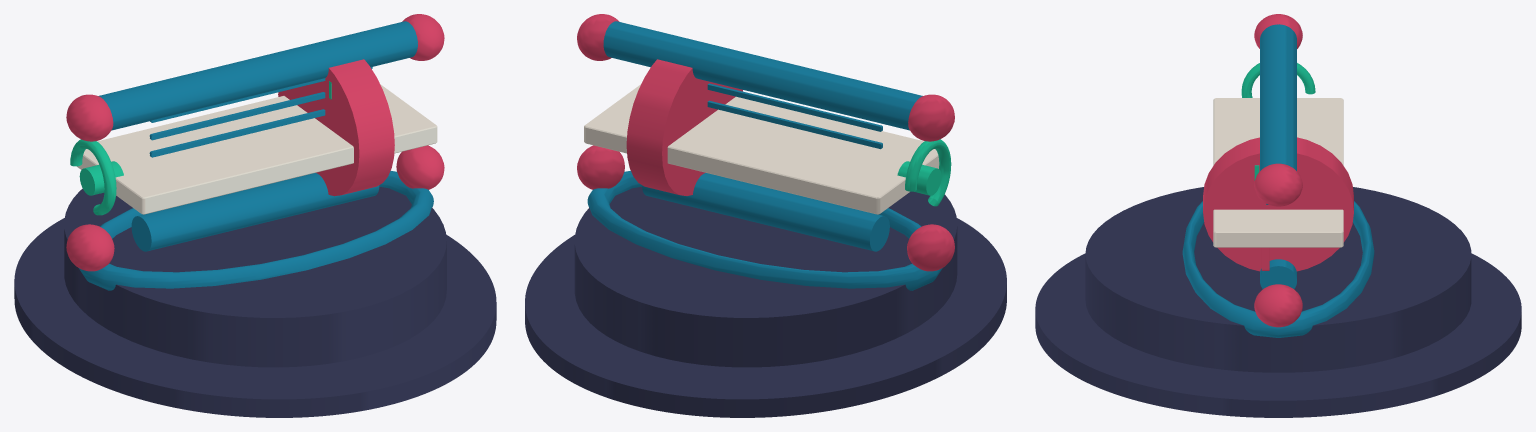
File: 0381_欧洲文明图鉴_雷普利卷轴.glb
The picture shows the model from 3 angles, left to right: view 1: azimuth 30°, elevation 25°; view 2: azimuth 150°, elevation 25°; view 3: azimuth 270°, elevation 25°; orthographic projection. The views are drawn at different scales.
Parts seen in each view (by area): view 1: card_0381; view 2: card_0381; view 3: card_0381.
Boxes of the visible parts, box(x1,y1,x2,y2) form: card_0381: box(14, 14, 496, 417); card_0381: box(525, 14, 1006, 417); card_0381: box(1035, 14, 1521, 417).
Size of the model in its own units: 1.67 by 1 by 1.87.
